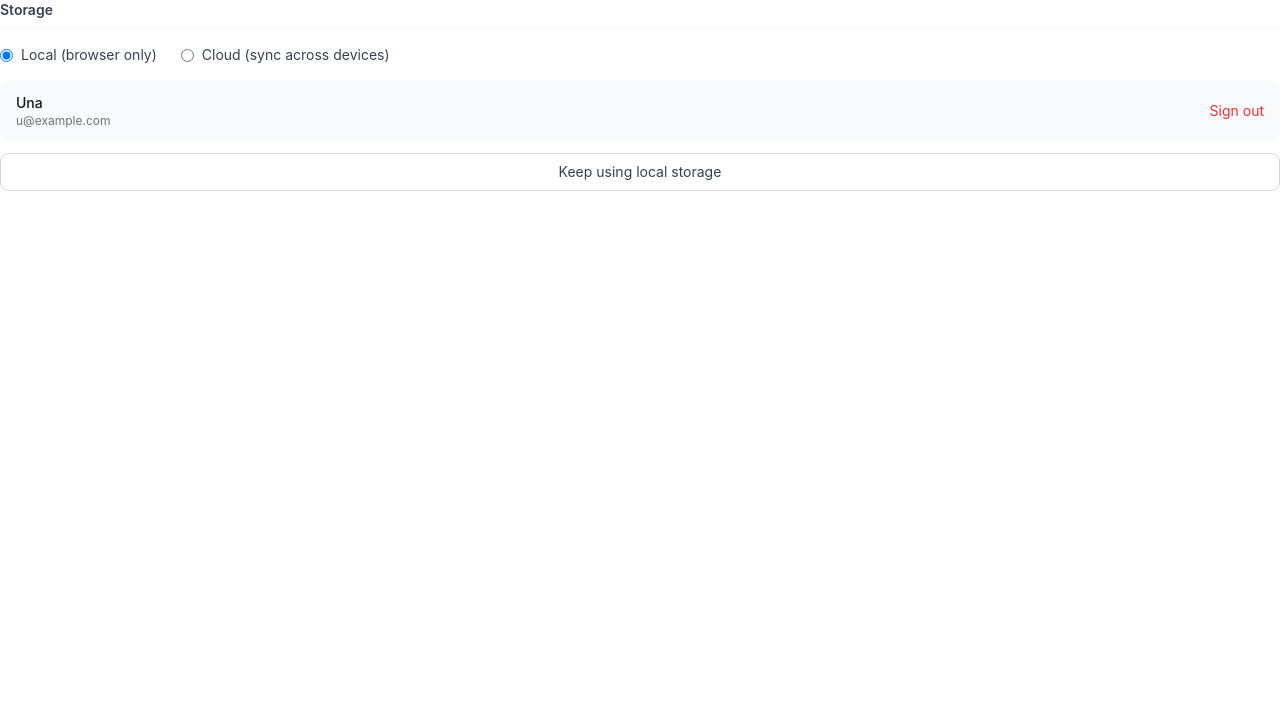
Test: StorageSection upload › everything uploaded: the ok line, then a clear that removes the uploaded products
Click the radio button labelled "Cloud (sync across devices)": [187, 55] box [181,48,194,62]
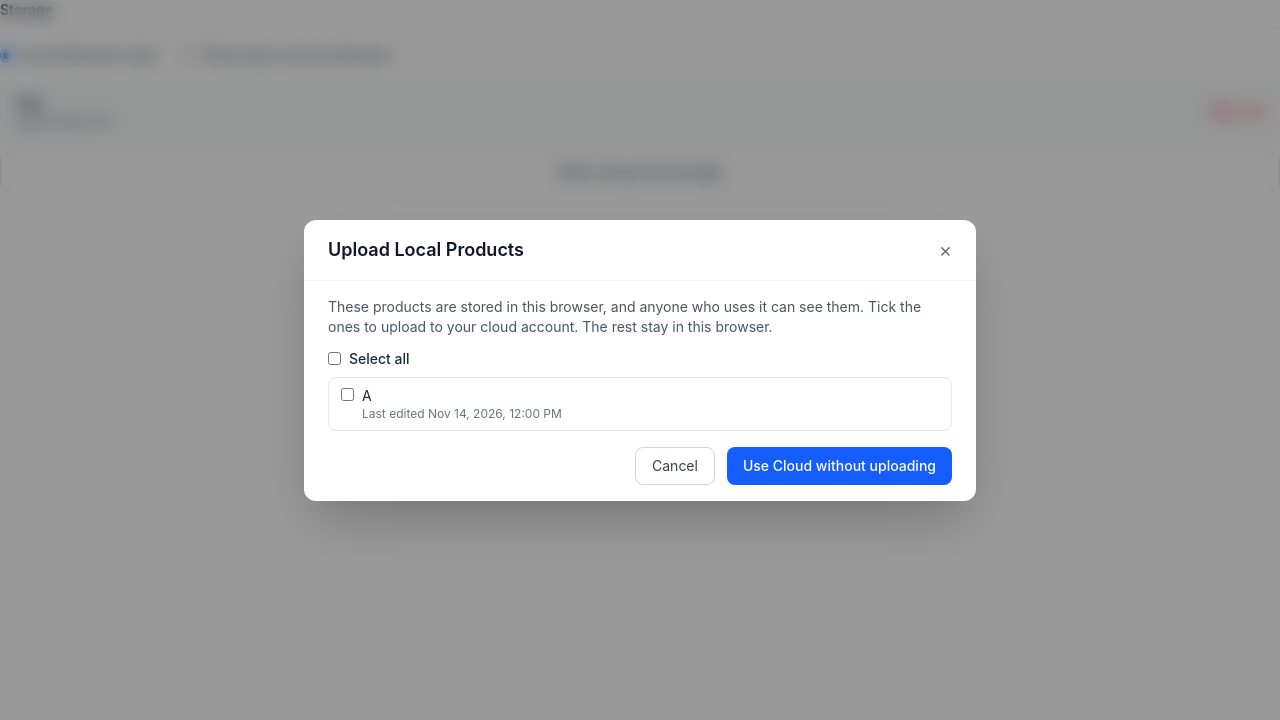
Click the checkbox labelled "Select all": [334, 358] box [328,352,341,365]
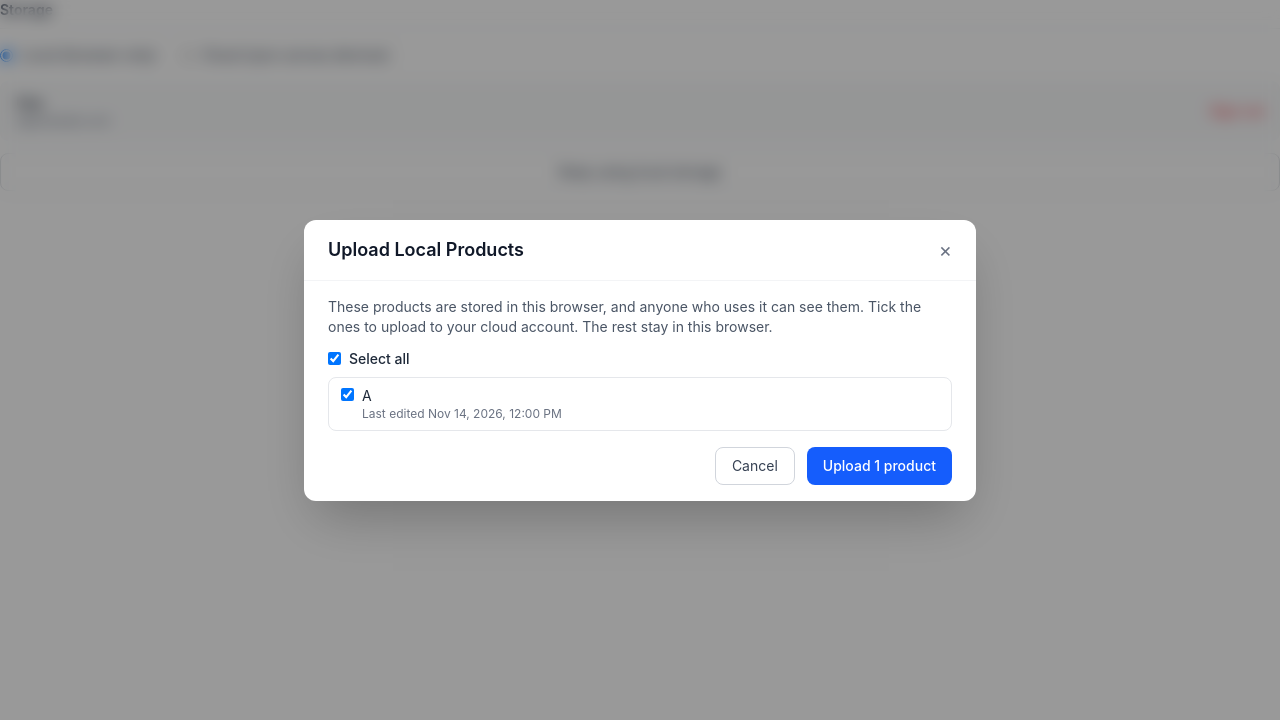
Click the button "Upload 1 product": [879, 466] box [807,446,952,484]
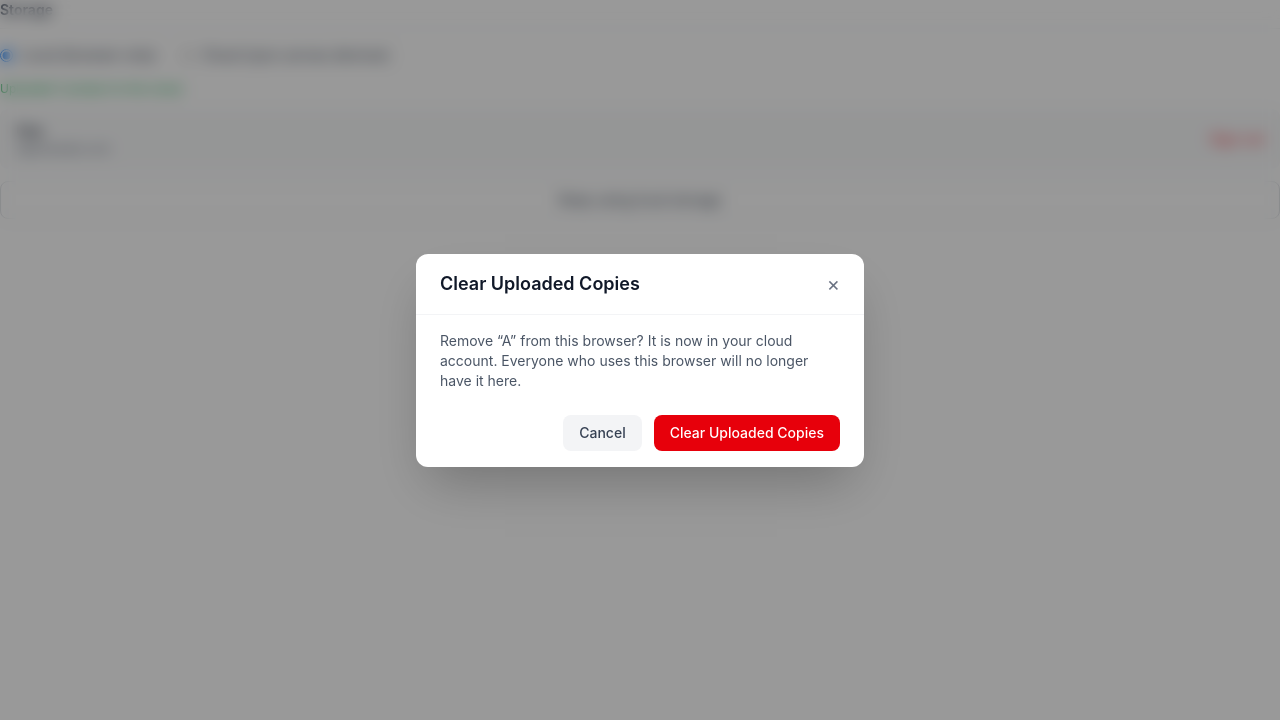
Result: the text "Uploaded 1 product to the cloud." is shown at [0,81,185,96]
Result: the heading "Clear Uploaded Copies" is shown at [440,270,640,298]
Click the button "Clear Uploaded Copies": [747, 432] box [654,414,840,450]
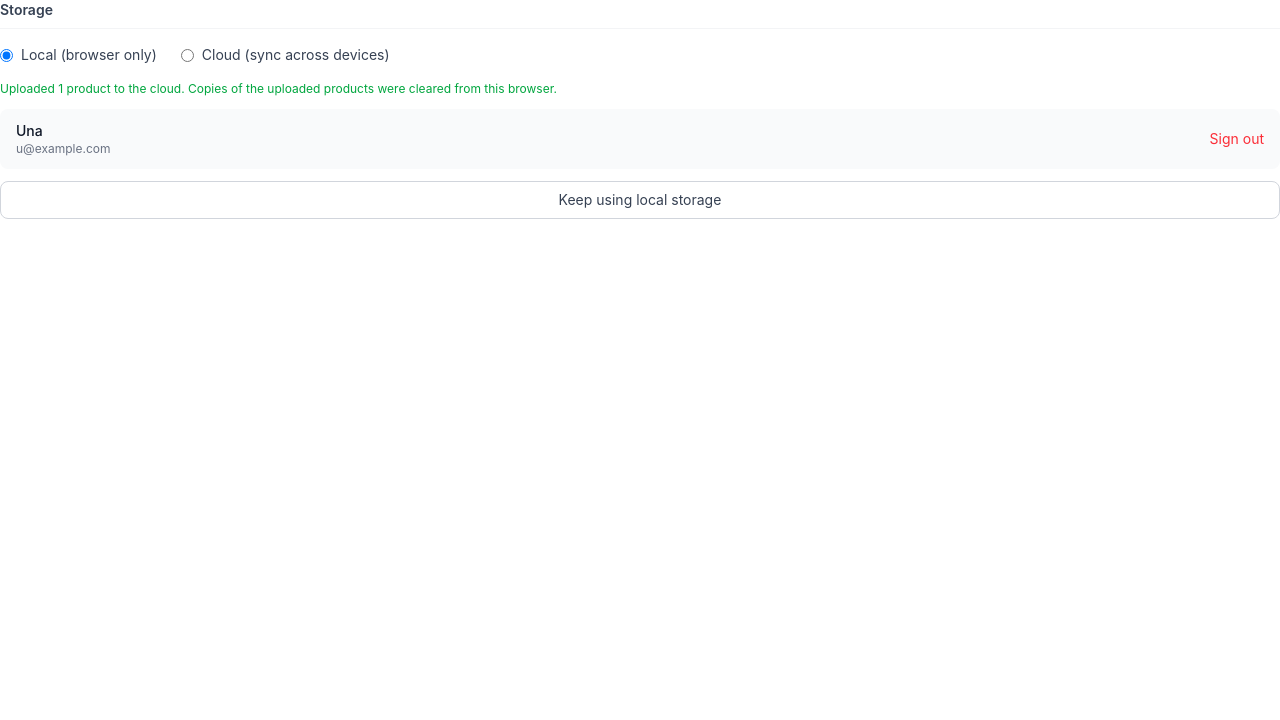
Result: the text "Uploaded 1 product to the cloud. Copies of the uploaded products were cleared from this browser." is shown at [0,81,557,96]
